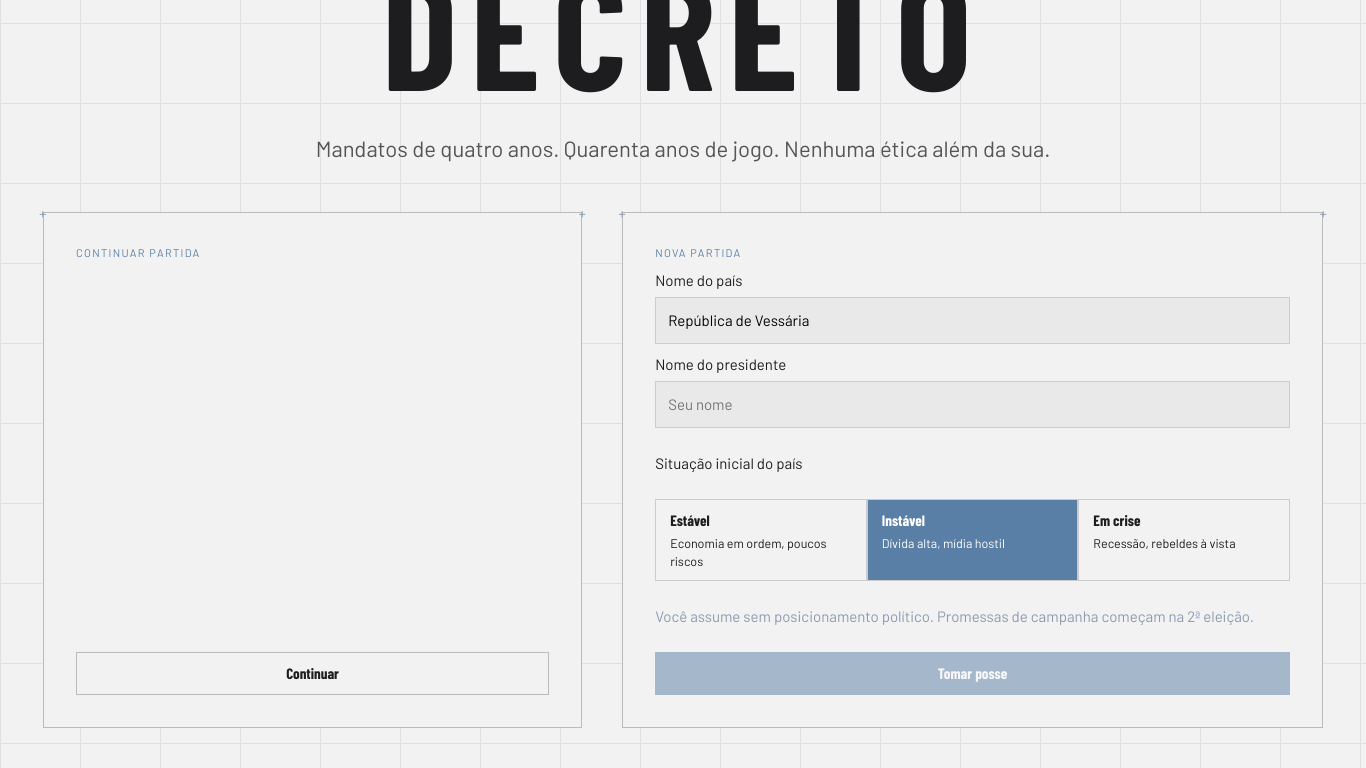
Test case: App with API › skips the action reveal when no actions were applied
The width and height of the screenshot is (1366, 768).
(page scrolled)
Click the button "Continuar" at (313, 674), box [76,652,549,695]
(page scrolled)
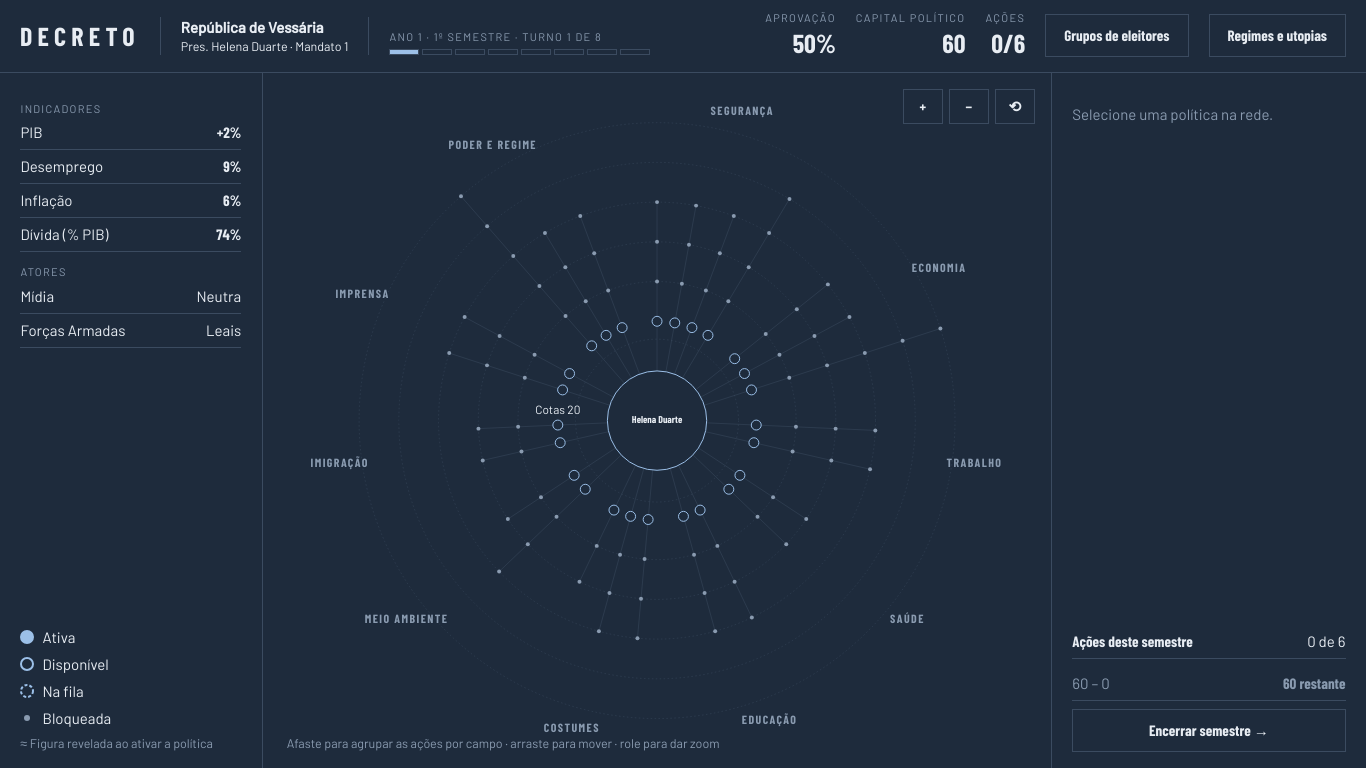
Result: the text "Ações deste semestre" is shown at [1072,631,1193,652]
Click the button "Encerrar semestre →" at (1209, 730), box [1072,709,1346,752]
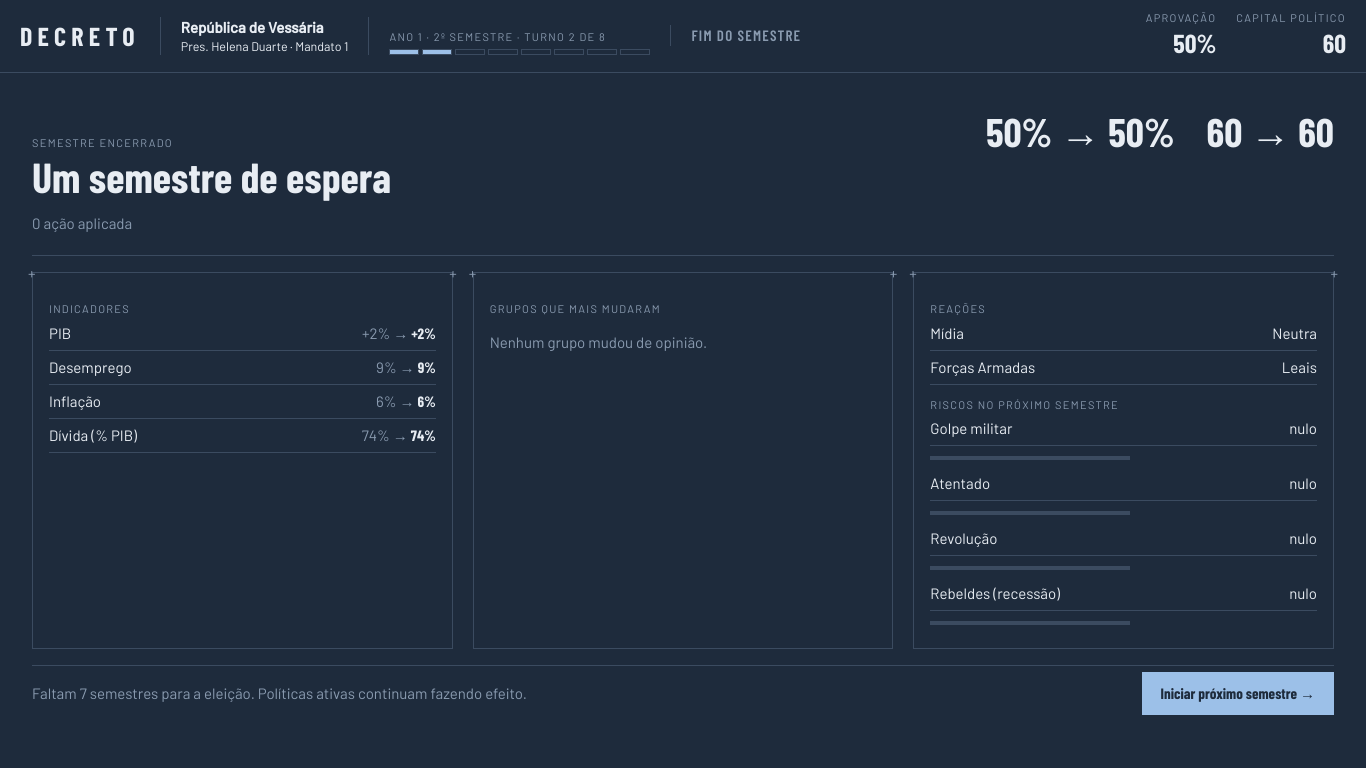
Result: the text "Semestre encerrado" is shown at [32,136,173,149]
